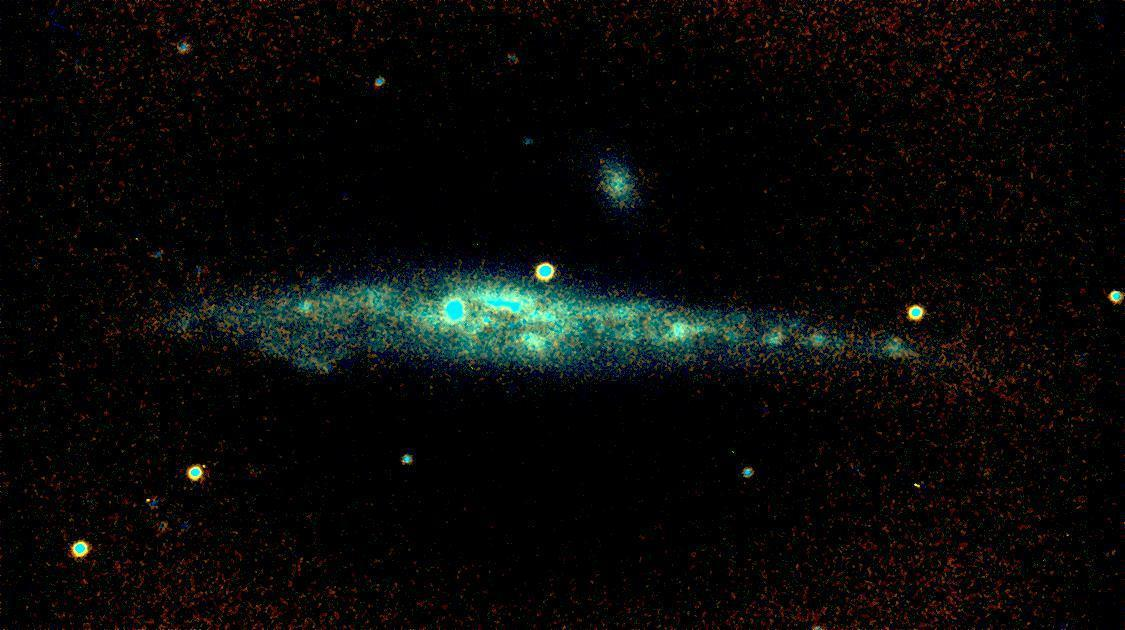star: (900, 469, 930, 499)
